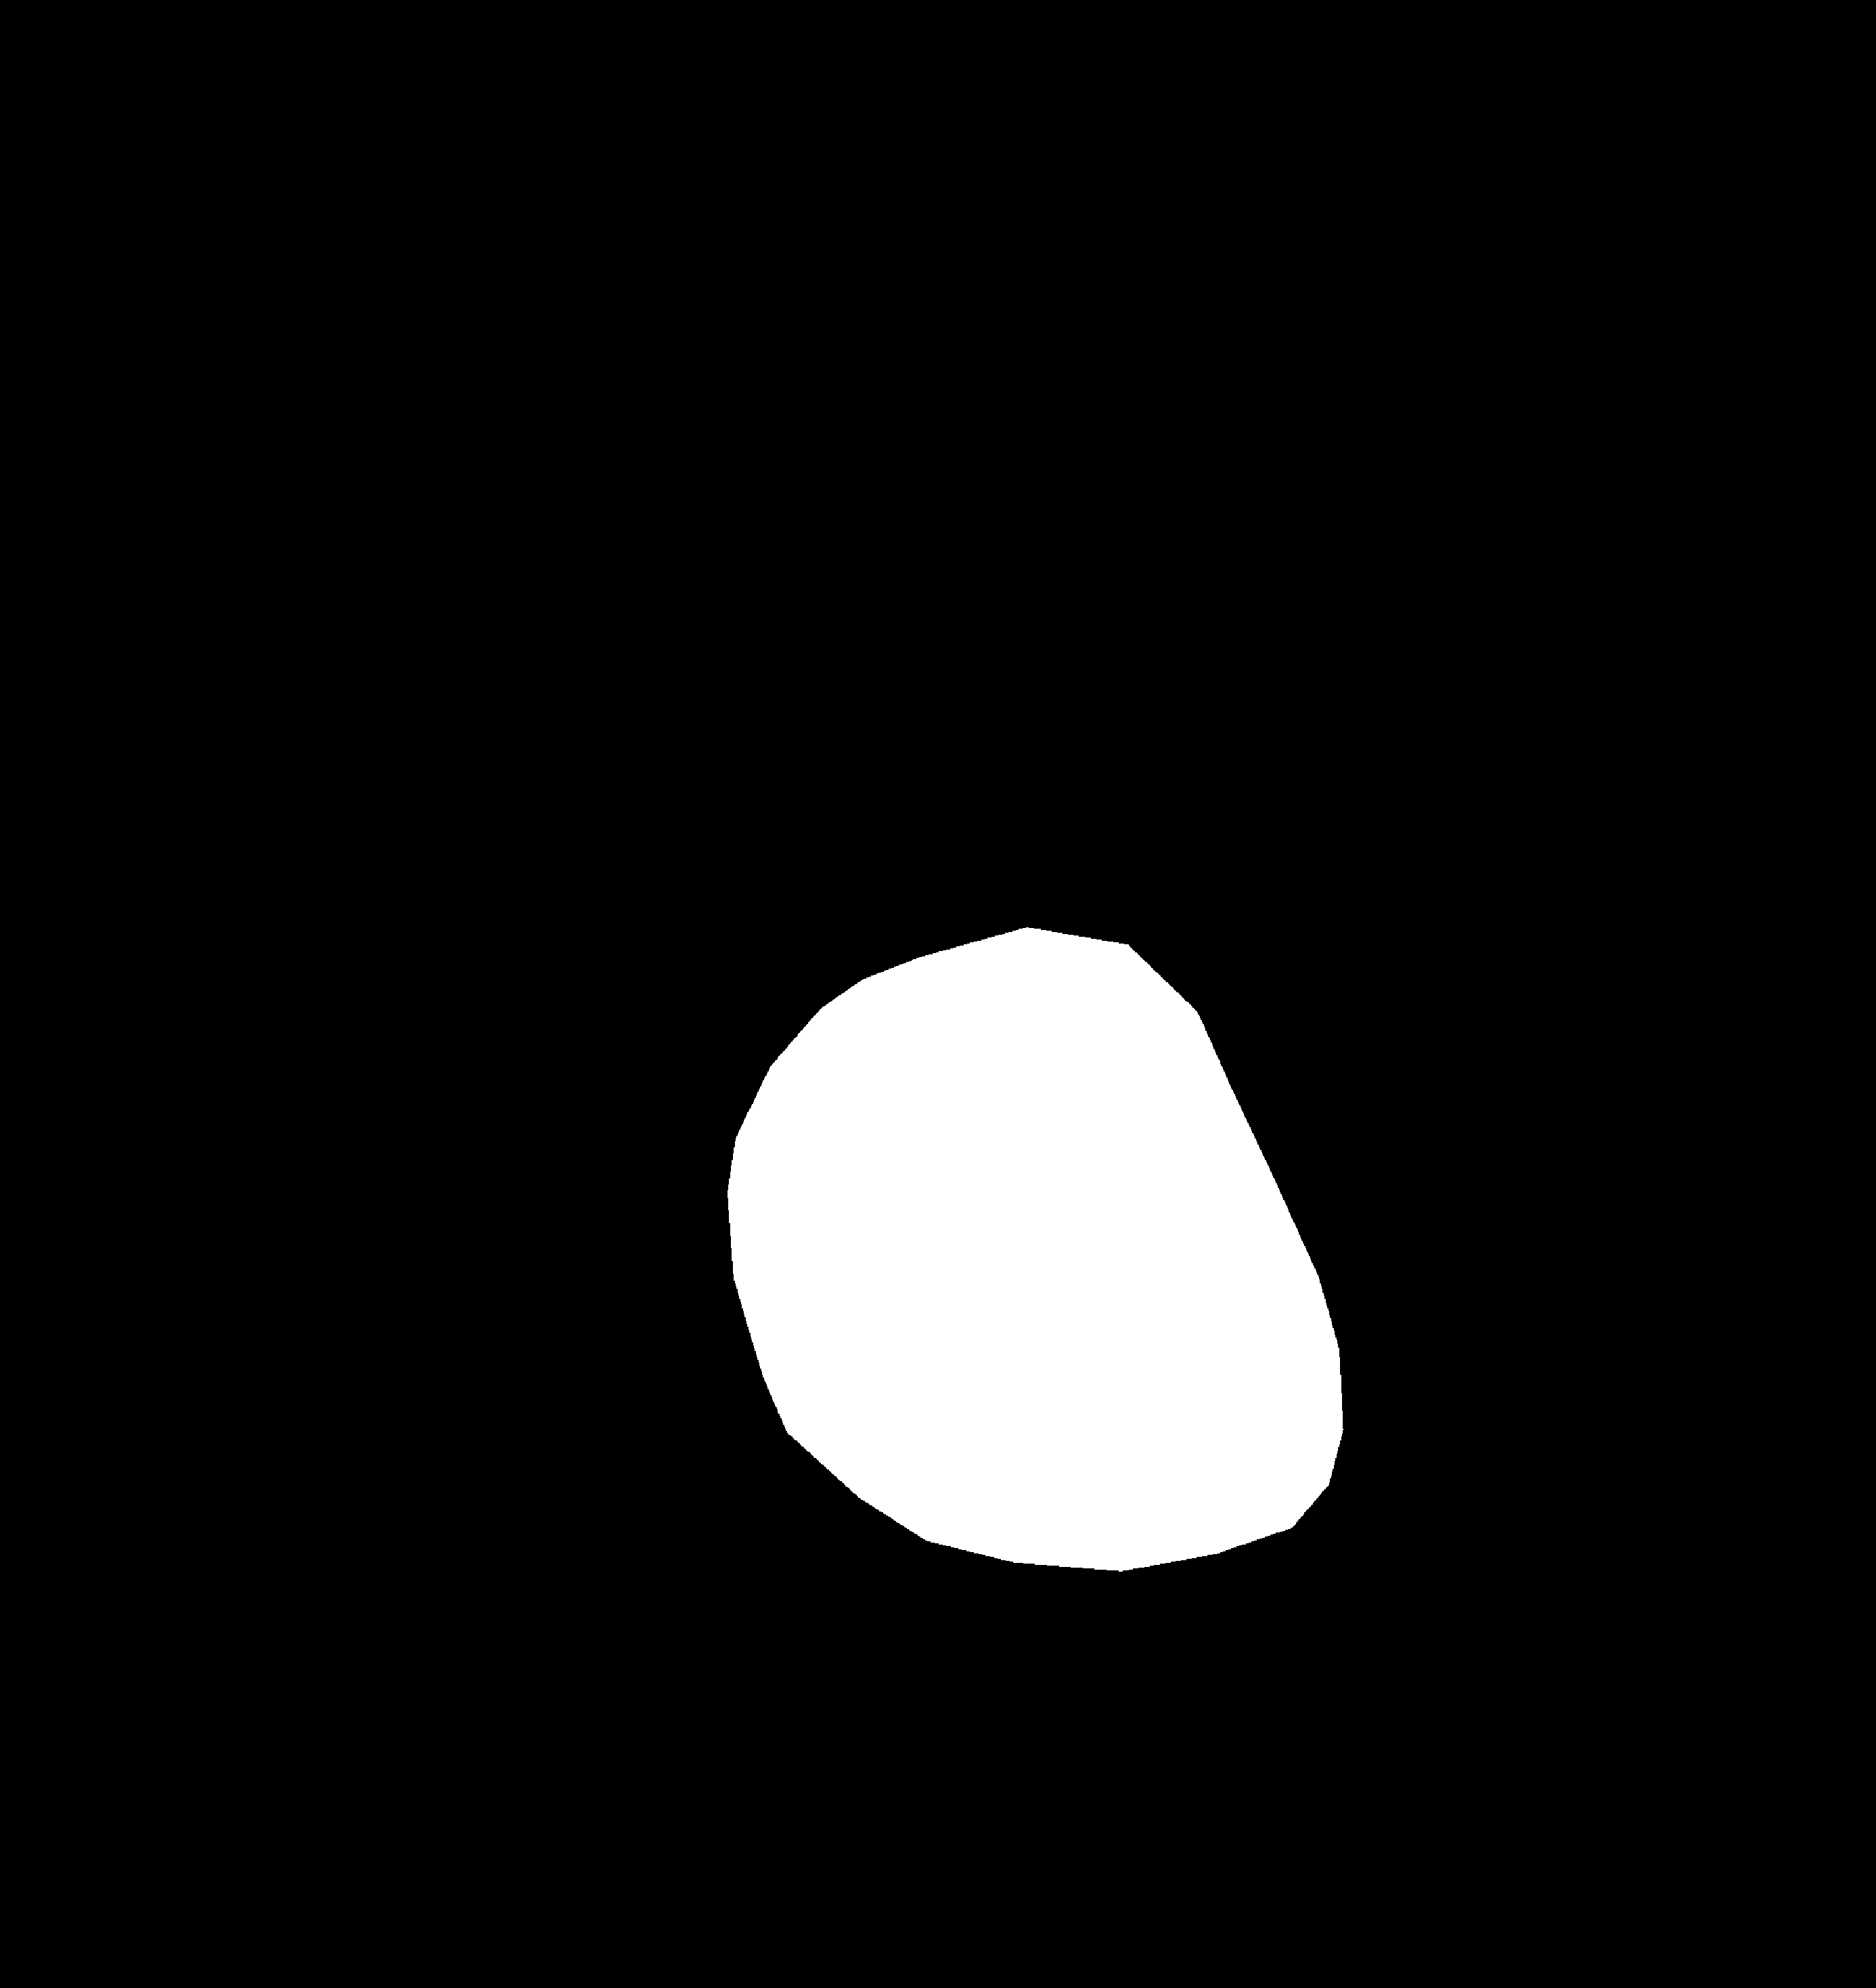heart: (728, 1002, 1340, 1554)
left_lung: (173, 247, 906, 1725)
right_lung: (1042, 302, 1698, 1736)
